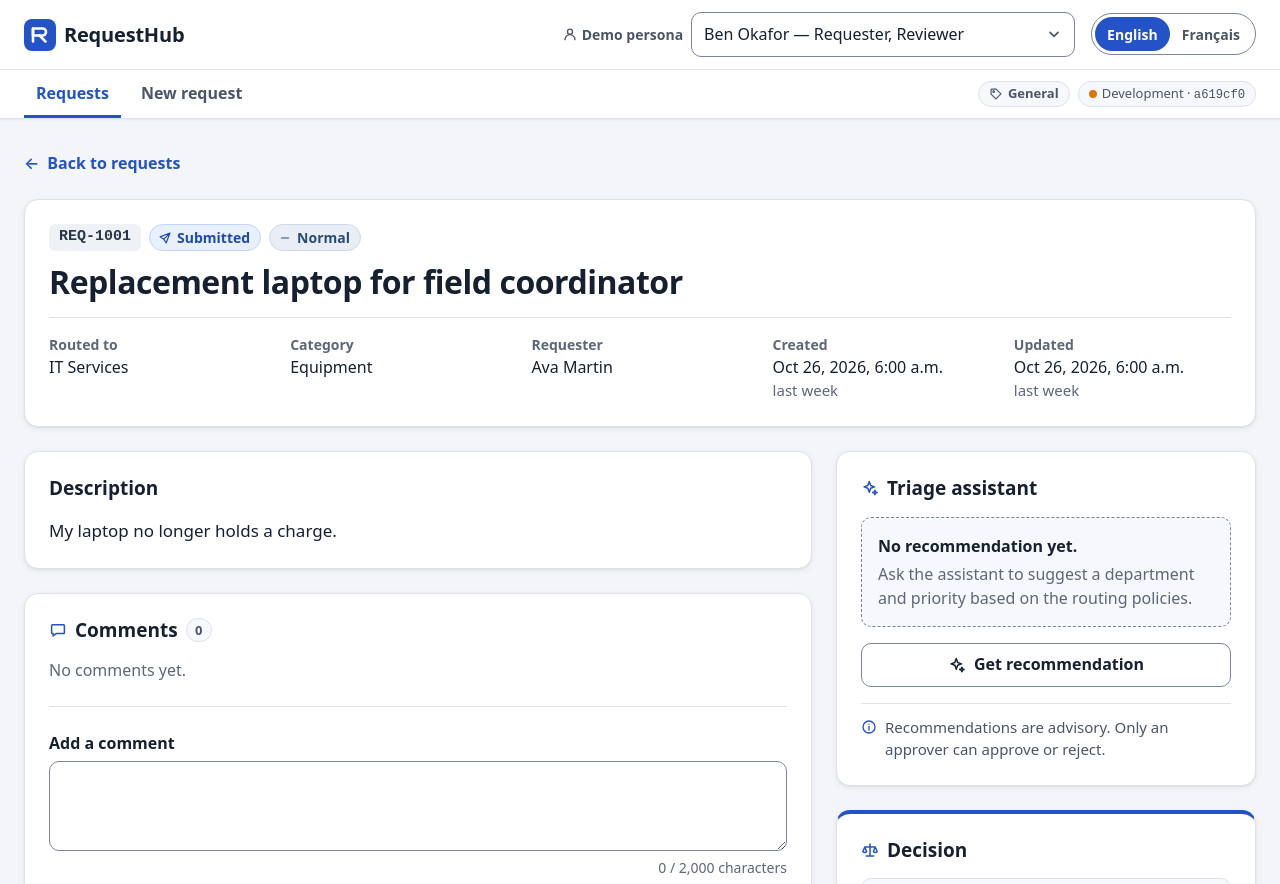
it: TriagePanel › shows a translated, accessible error when the triage provider is unavailable
This screenshot has width=1280, height=884.
Click the button "Get recommendation" at (1046, 665), box [861,643,1231,687]
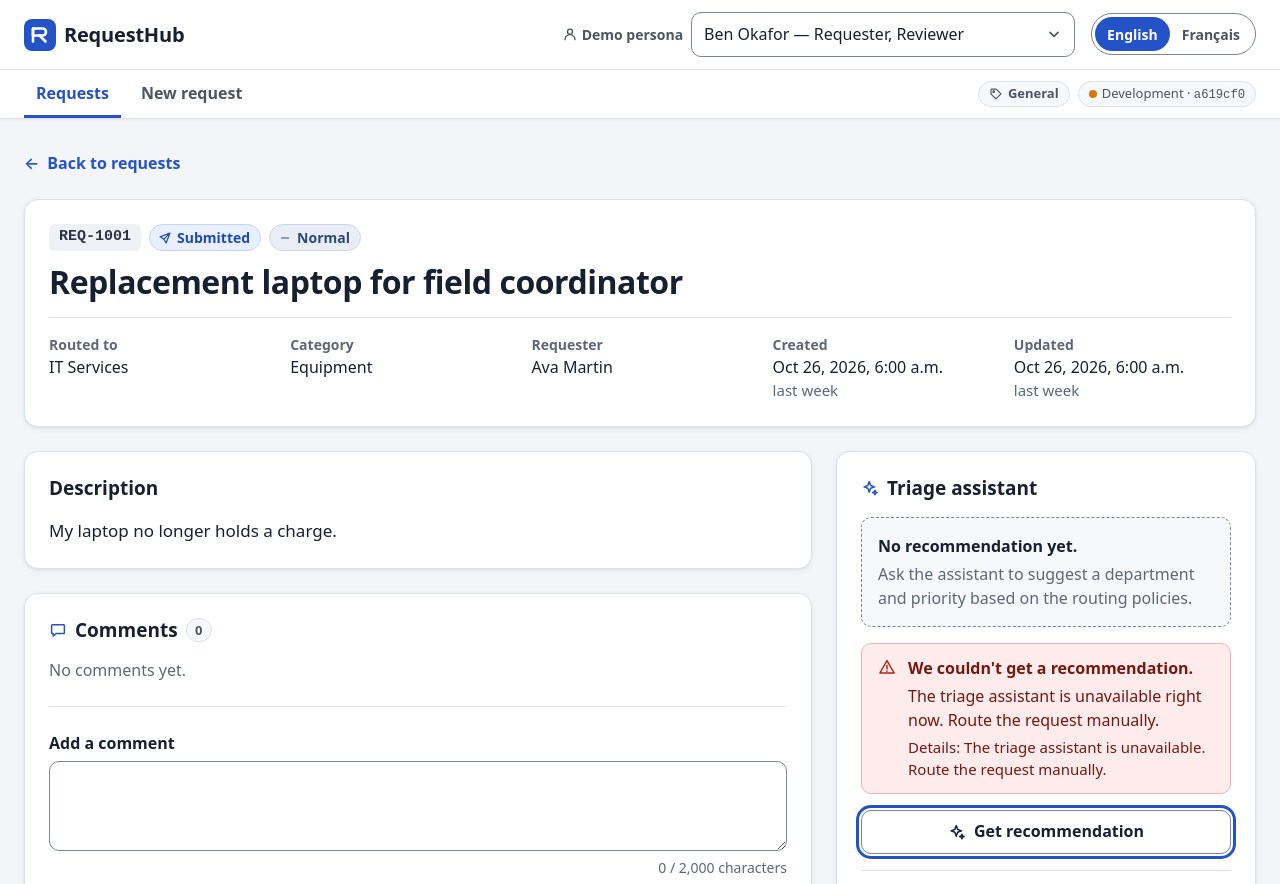
Expected: the message shows "We couldn't get a recommendation.", [908,657,1193,679]
Expected: the message shows "The triage assistant is unavailable right now. Route the request manually.", [908,685,1202,731]
Expected: the message shows "Details: The triage assistant is unavailable. Route the request manually.", [908,737,1206,779]
